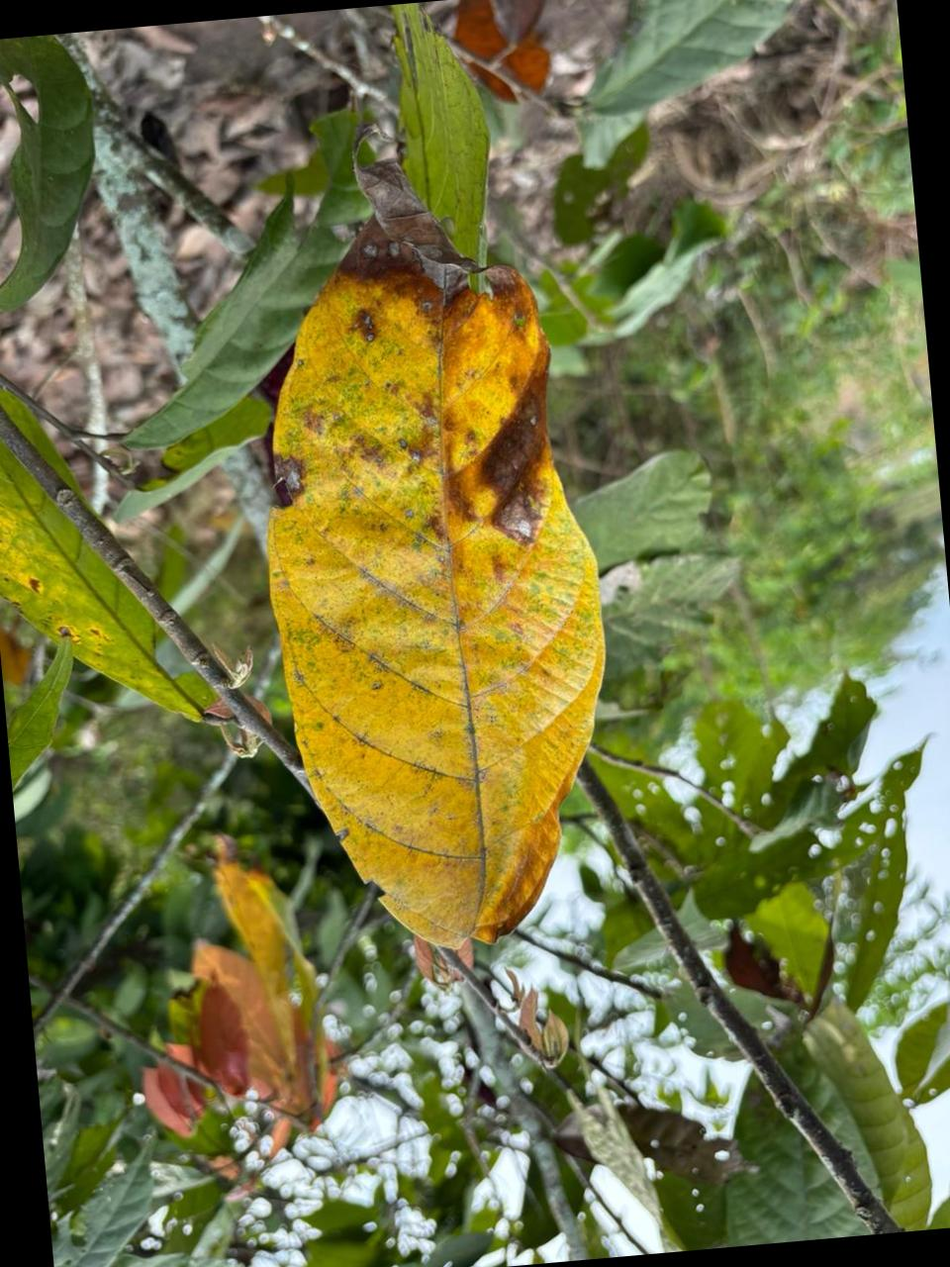Fosforo: (268, 166, 604, 948)
